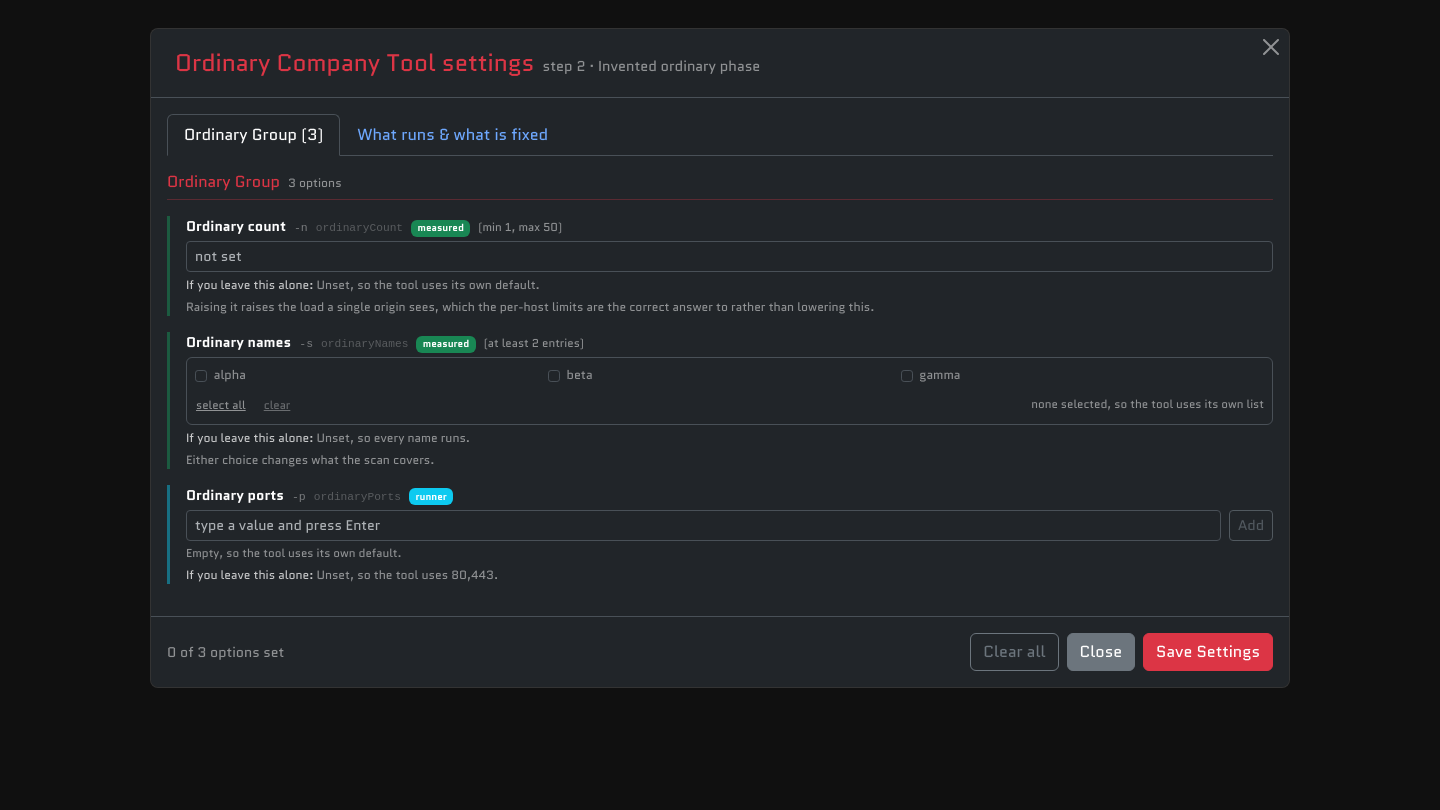
Test: a list with too few entries is refused inline and blocks Save
The image size is (1440, 810).
Expected: the button "Save Settings" is enabled, [1143,633,1273,671]
Click the checkbox labelled "alpha" at (201, 376), box [195,370,208,382]
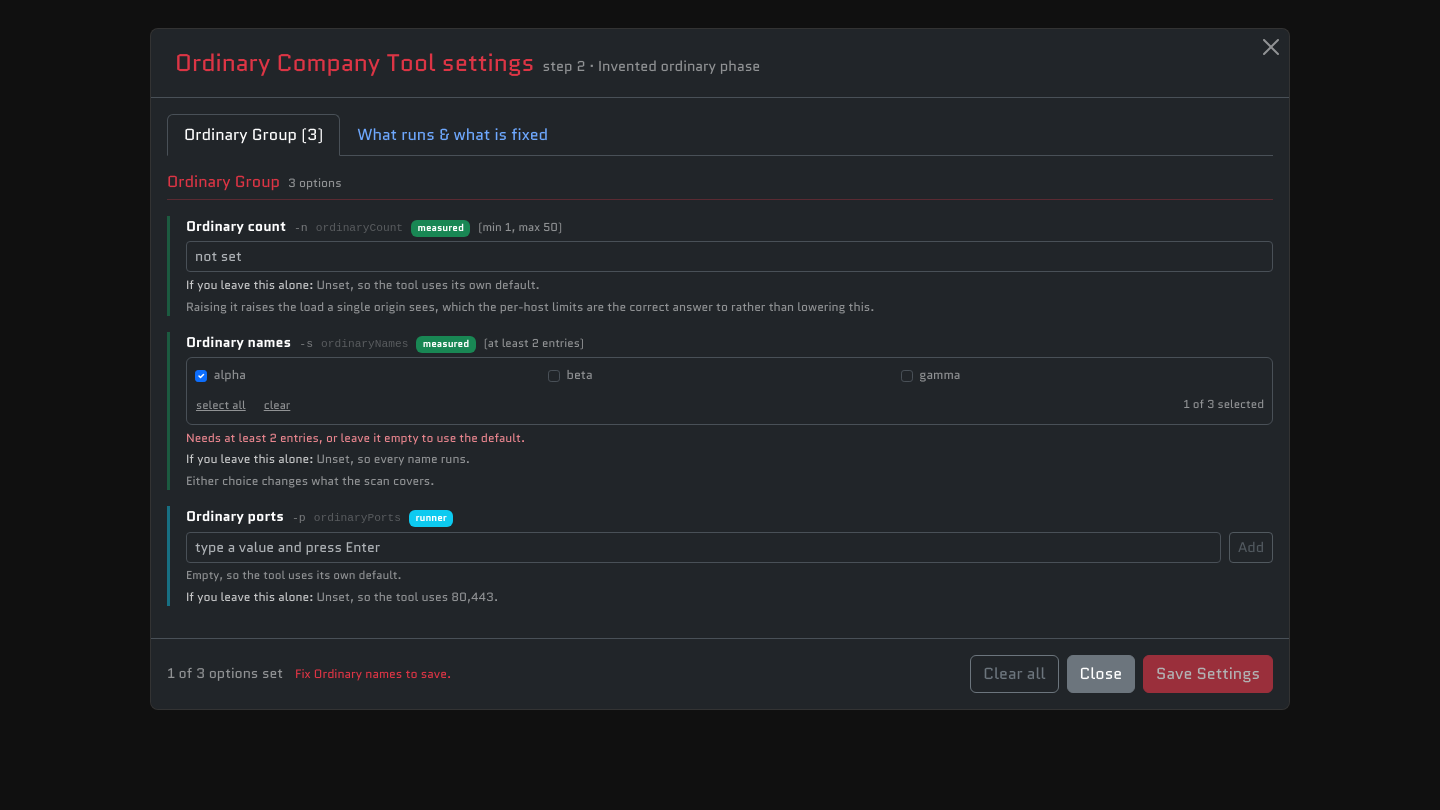
Expected: the text with test id "error-ordinaryNames" shows "at least 2 entries", [186,429,525,446]
Expected: the button "Save Settings" is disabled, [1143,655,1273,693]
Click the checkbox labelled "beta" at (554, 376), box [548,370,560,382]
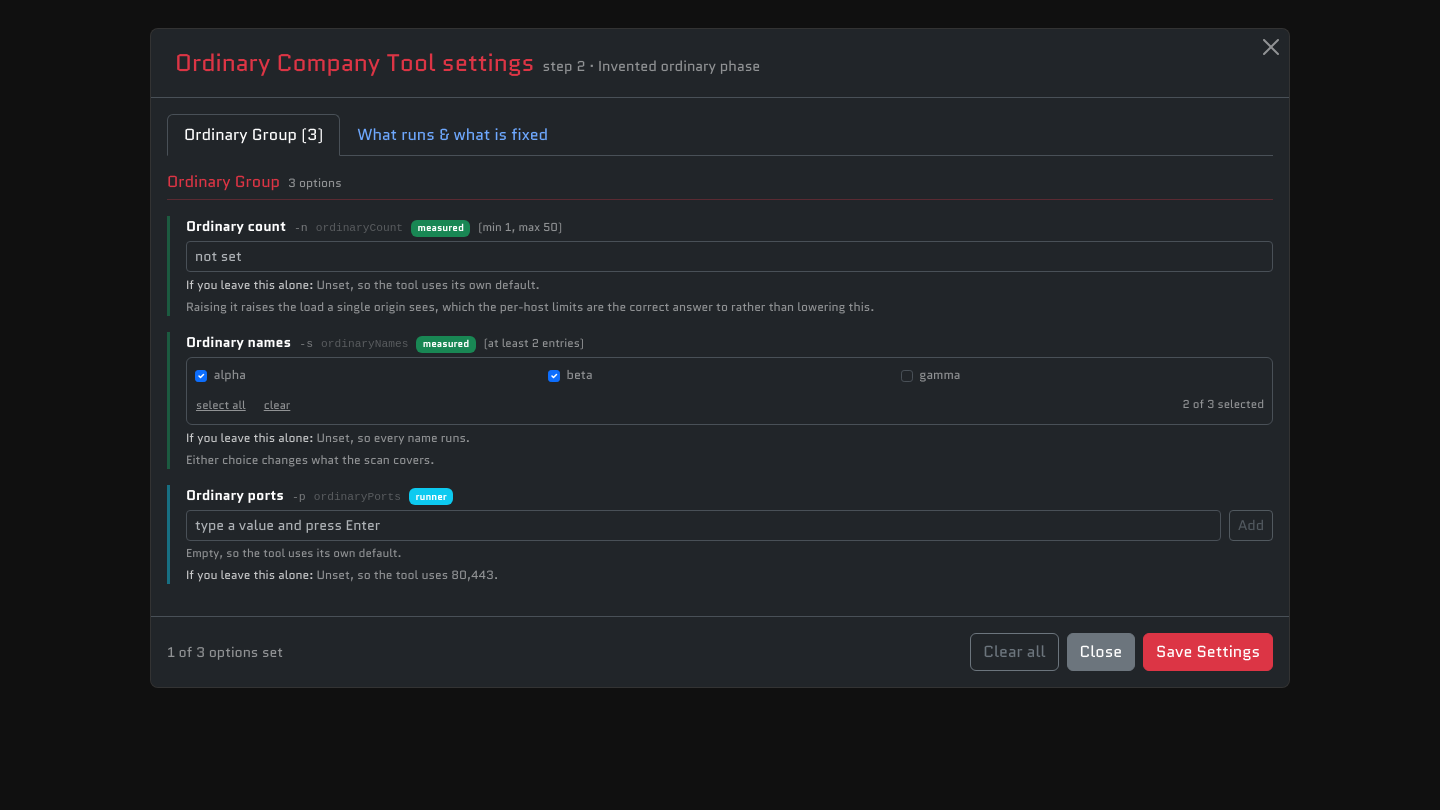
Expected: the text with test id "error-ordinaryNames" is gone
Expected: the button "Save Settings" is enabled, [1143,633,1273,671]
